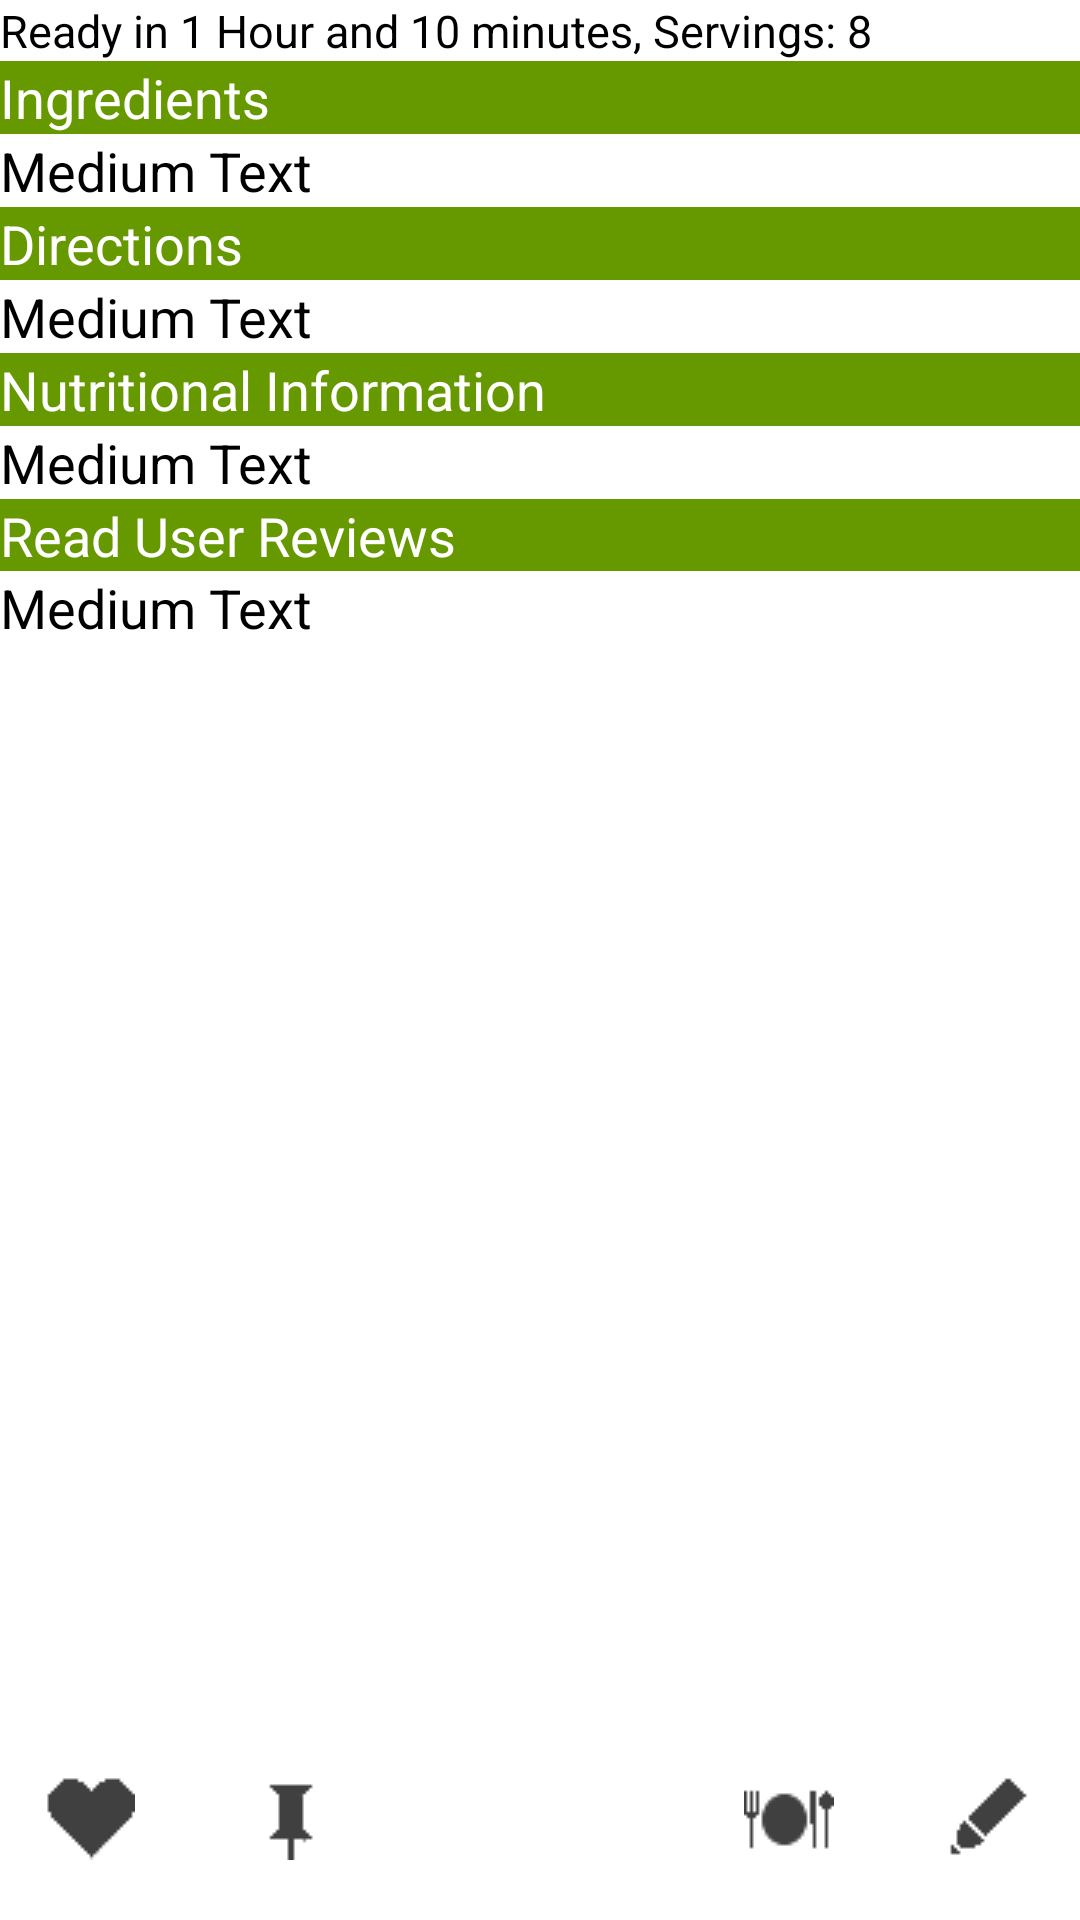

Where to tap for icons on this 1080*1920 app screen, as (x=x, y=y):
edit: (x=988, y=1816)
heart: (x=91, y=1819)
meal: (x=789, y=1819)
pin: (x=291, y=1822)
